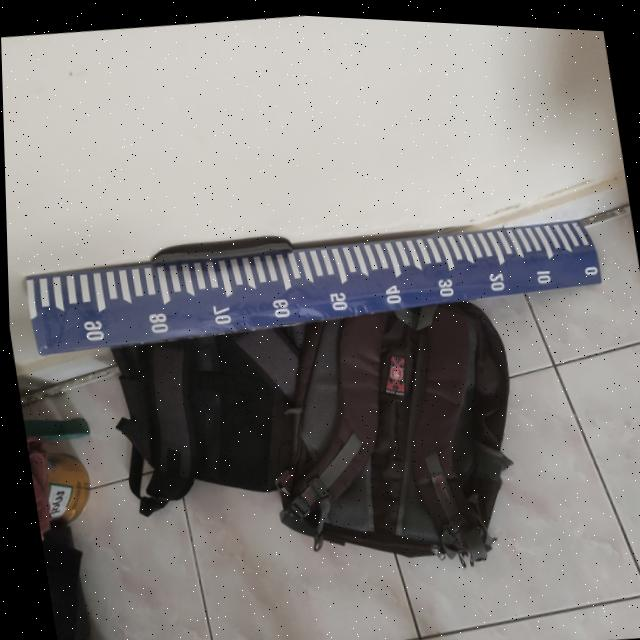water-meter: (10, 181, 612, 393)
